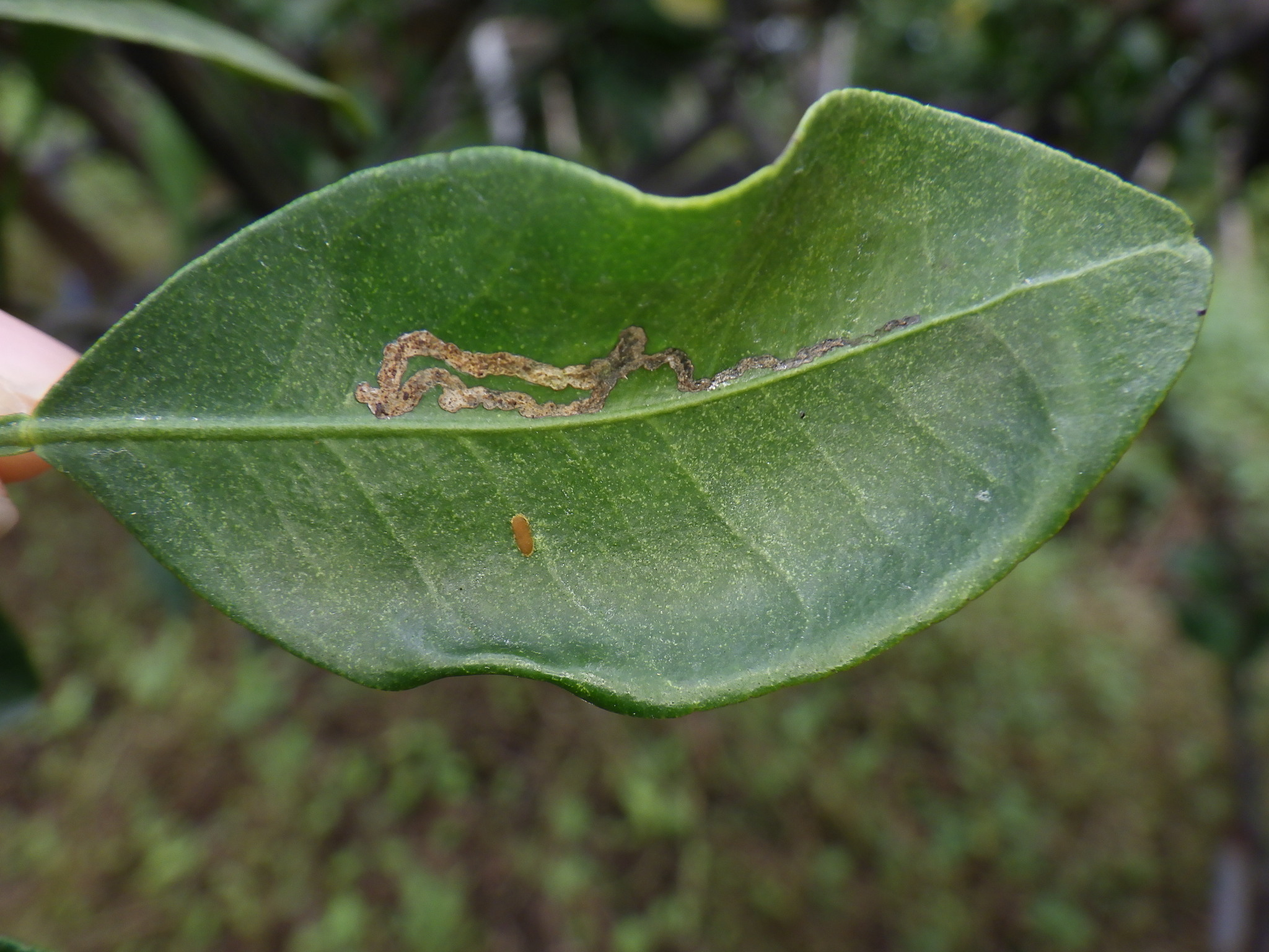Citrus_Leaf_Miner: (355, 315, 918, 418)
